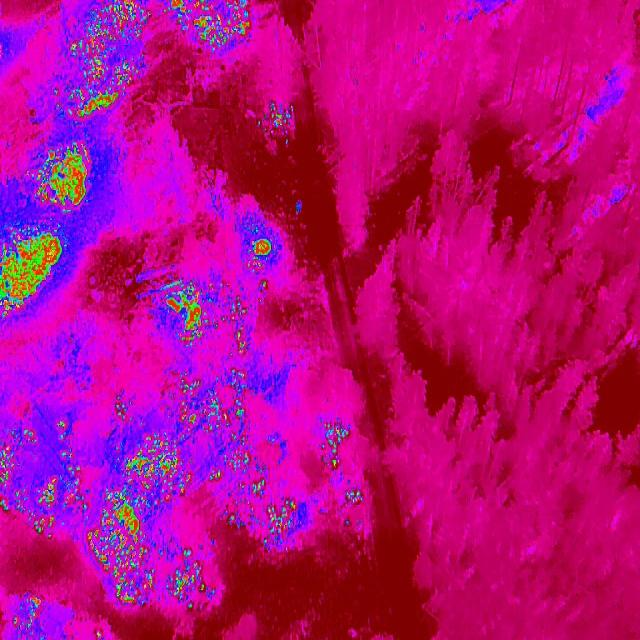fire: (0, 414, 82, 540), (85, 497, 160, 608), (0, 229, 72, 321), (71, 0, 150, 80), (112, 434, 195, 504), (164, 0, 255, 55), (170, 374, 247, 438), (30, 142, 96, 210), (226, 496, 300, 553), (162, 279, 219, 349), (206, 439, 271, 498), (65, 71, 133, 121), (166, 546, 216, 612), (224, 294, 254, 358), (10, 592, 50, 640), (316, 418, 351, 472), (240, 229, 280, 273), (258, 101, 294, 141), (342, 483, 366, 509), (256, 278, 270, 292), (95, 632, 108, 640)
